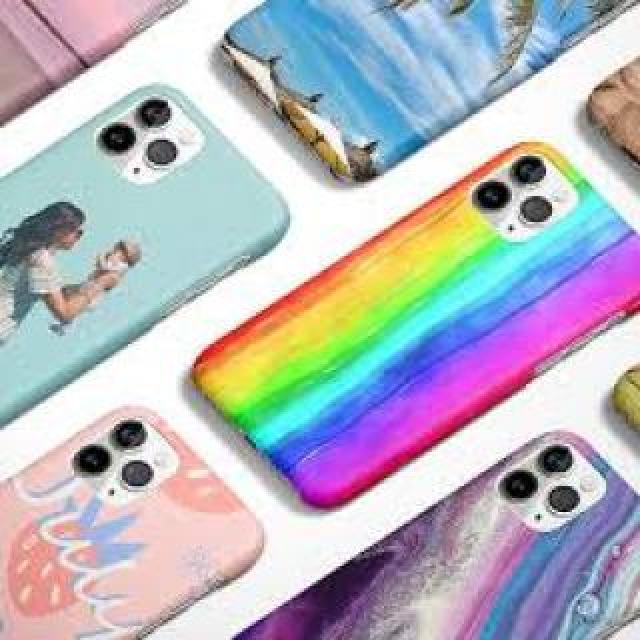smart phone: (0, 112, 302, 355), (188, 0, 640, 100)
